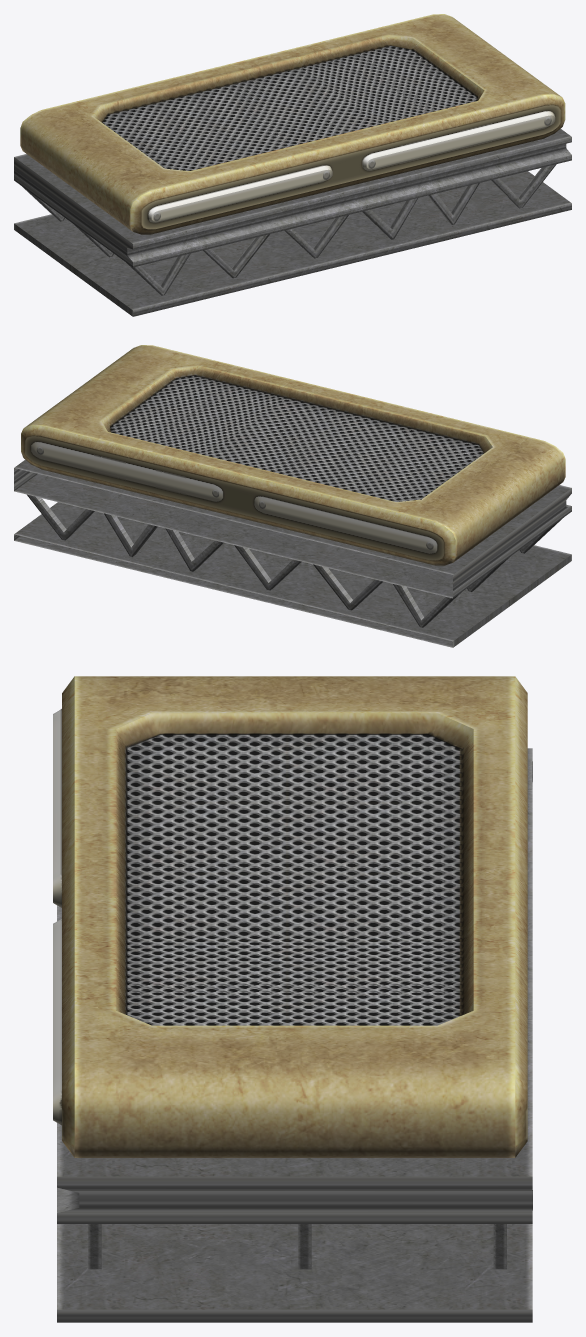
The model's file is platform04.FBX.
The picture shows the model from 3 angles, top to bottom: view 1: azimuth 30°, elevation 25°; view 2: azimuth 150°, elevation 25°; view 3: azimuth 270°, elevation 25°; orthographic projection. The views are drawn at different scales.
Visible parts, largest first — view 1: platform03; view 2: platform03; view 3: platform03.
Part boxes in pixels (left/top/right/bottom): platform03: left=14, top=14, right=571, bottom=316; platform03: left=14, top=345, right=571, bottom=647; platform03: left=53, top=676, right=532, bottom=1322.
Bounding box in the file's own units: 151 × 38.72 × 71.69.
